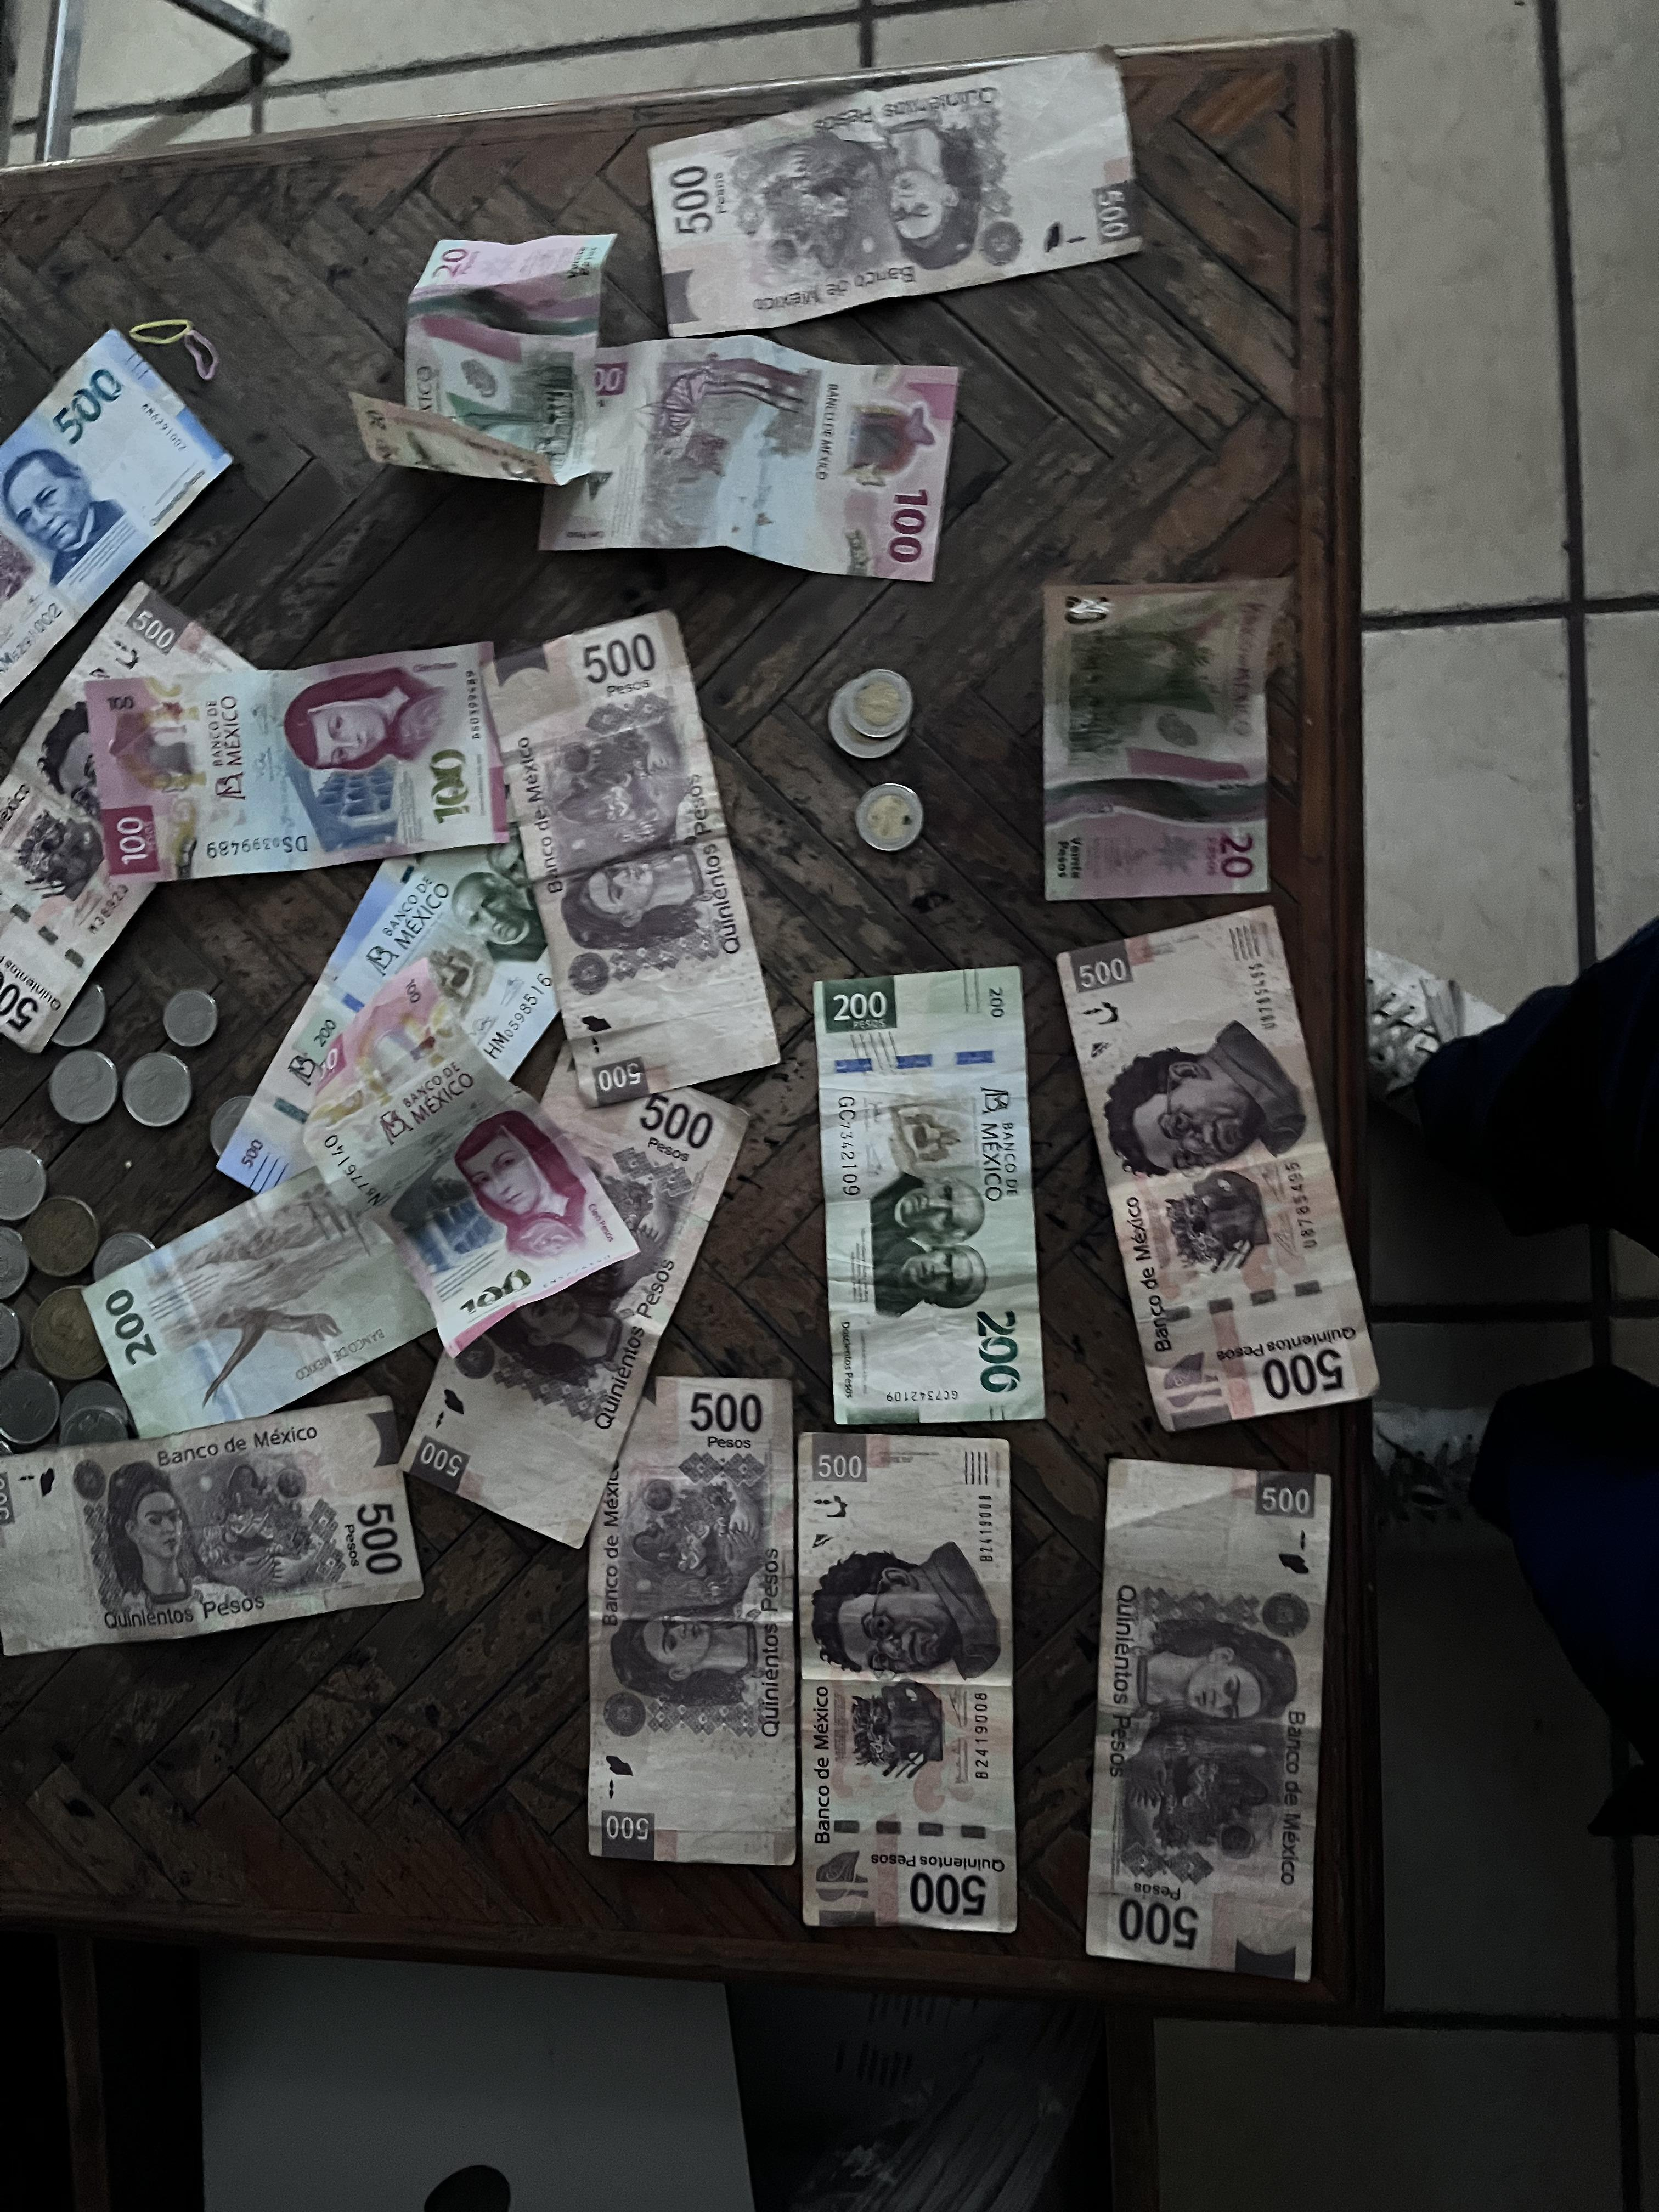100: (282, 972, 648, 1359), (498, 315, 978, 592), (77, 648, 547, 887)
20: (1021, 545, 1286, 928), (338, 200, 605, 486)
200: (774, 941, 1082, 1444), (38, 1165, 464, 1430), (307, 782, 617, 1125)
500: (453, 601, 821, 1115), (408, 1036, 755, 1561), (1053, 921, 1396, 1437), (598, 71, 1169, 340), (1066, 1433, 1328, 1998), (782, 1409, 1046, 1947), (535, 1383, 798, 1900), (0, 587, 277, 1073), (0, 1383, 415, 1665)
500 nuevo: (0, 324, 235, 738)
